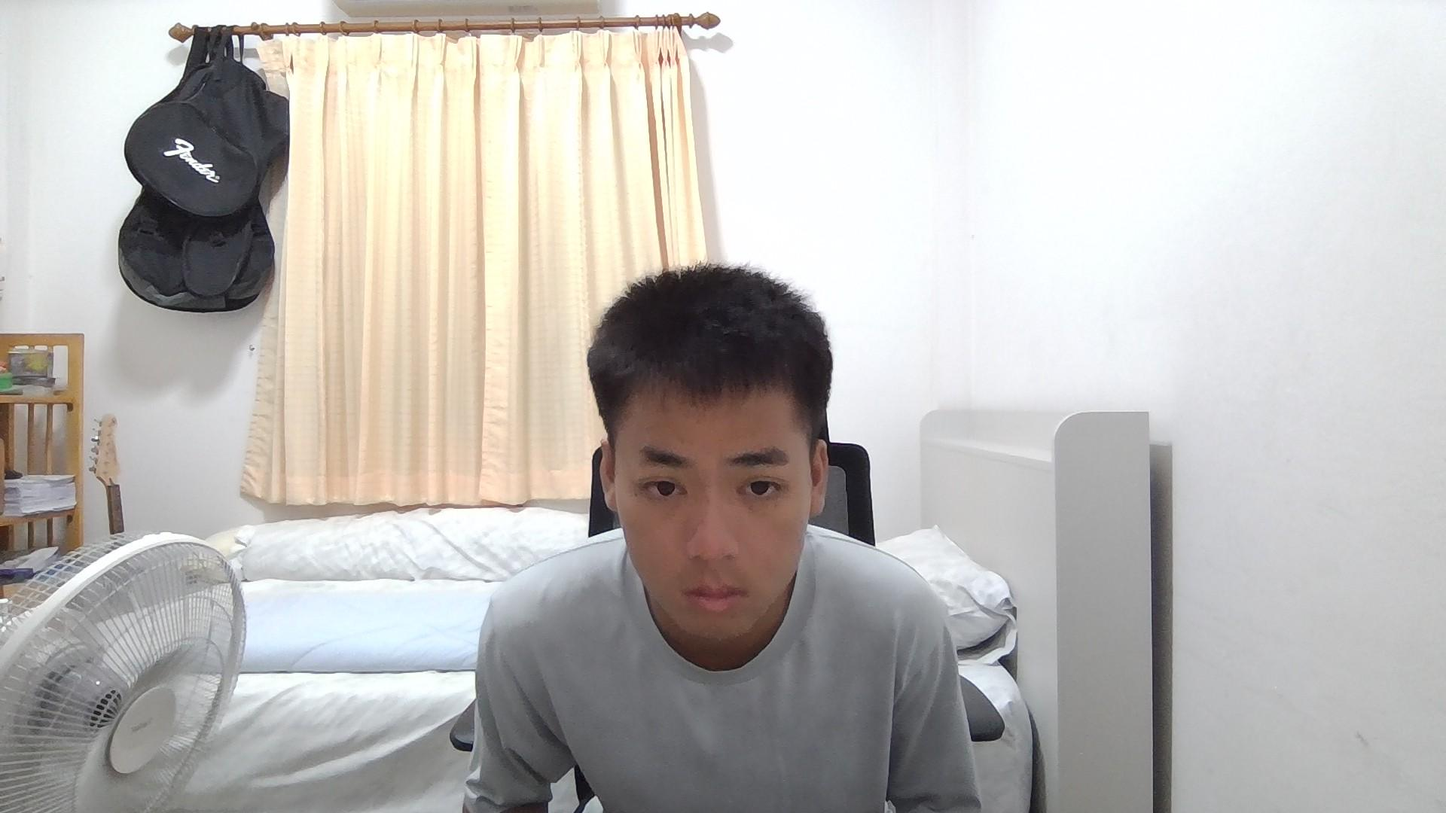BadPosture: (463, 264, 981, 812)
